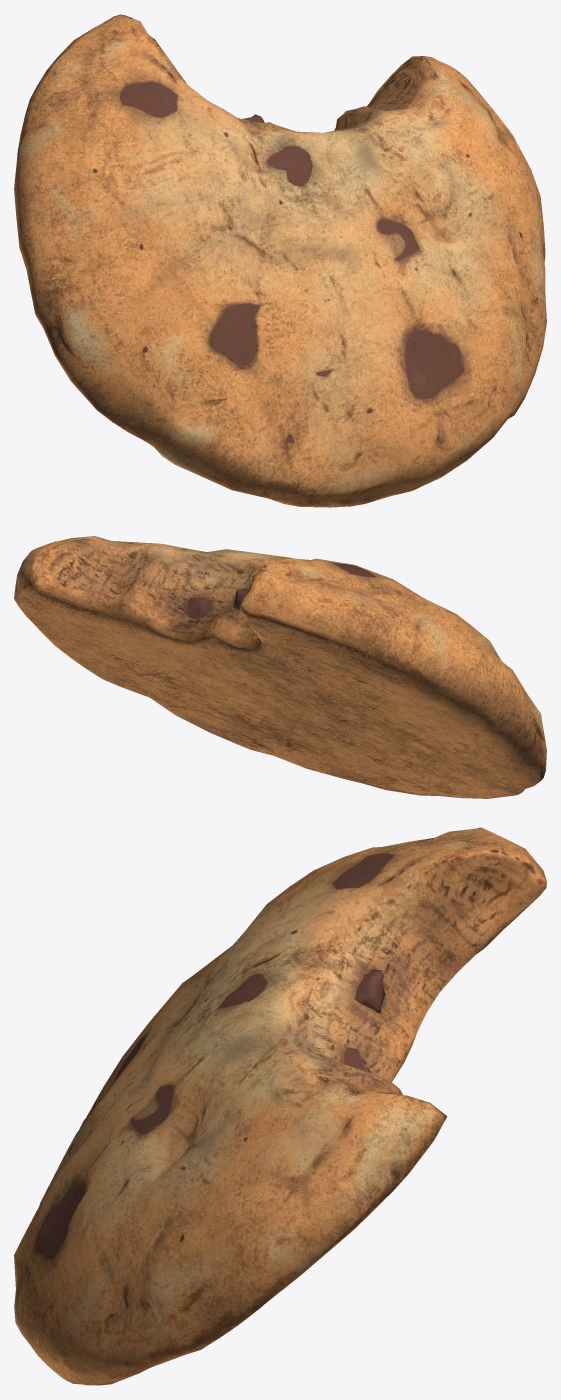
Rendered from cookie_treasure.fbx.
3 renders of one model, top to bottom at view 1: azimuth 30°, elevation 25°; view 2: azimuth 150°, elevation 25°; view 3: azimuth 270°, elevation 25°, orthographic. The views are drawn at different scales.
Visible parts, largest first — view 1: root; view 2: root; view 3: root.
Boxes of the visible parts, left/top/right/bottom form: root: left=14, top=14, right=546, bottom=507; root: left=14, top=536, right=546, bottom=798; root: left=14, top=827, right=546, bottom=1385.
Bounding box in the file's own units: 0.512 × 0.3633 × 0.389.
1 material, 1 textured.
